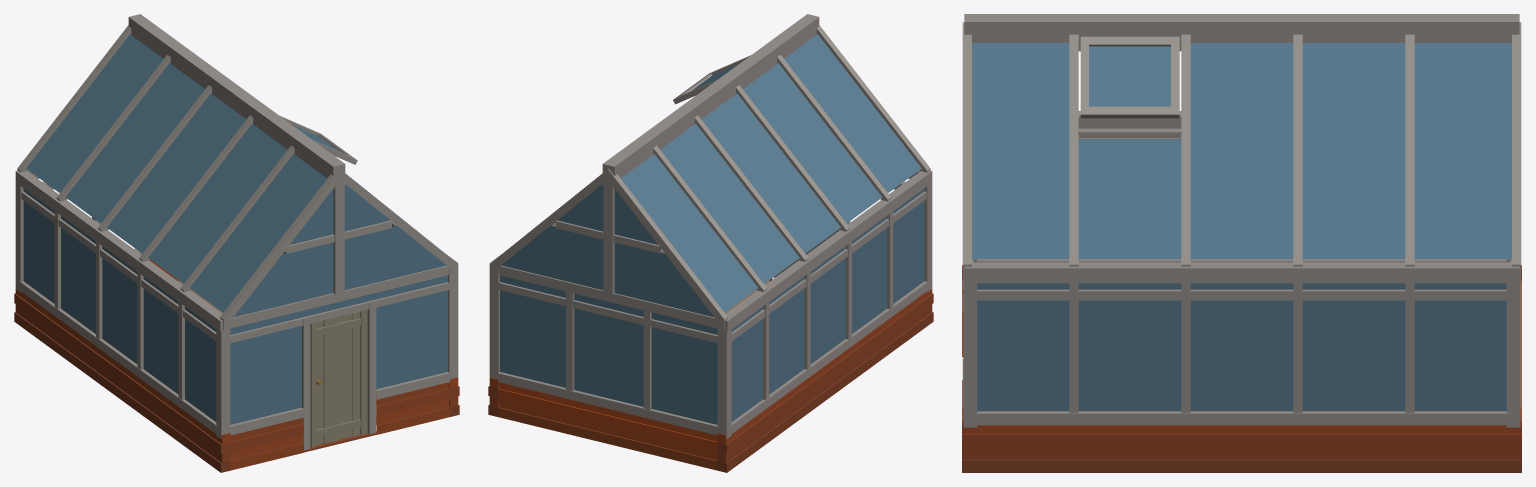
Rendered from greenhouse-53ab6d.glb.
The picture shows the model from 3 angles, left to right: view 1: azimuth 30°, elevation 25°; view 2: azimuth 150°, elevation 25°; view 3: azimuth 270°, elevation 25°; orthographic projection. The views are drawn at different scales.
Parts seen in each view (by area): view 1: greenhouse-53ab6d; view 2: greenhouse-53ab6d; view 3: greenhouse-53ab6d.
Part boxes in pixels (x1=…): greenhouse-53ab6d: x1=14, y1=14, x2=459, y2=472; greenhouse-53ab6d: x1=488, y1=14, x2=933, y2=472; greenhouse-53ab6d: x1=962, y1=14, x2=1521, y2=472.
Size of the model in its own units: 4 by 4.45 by 6.
